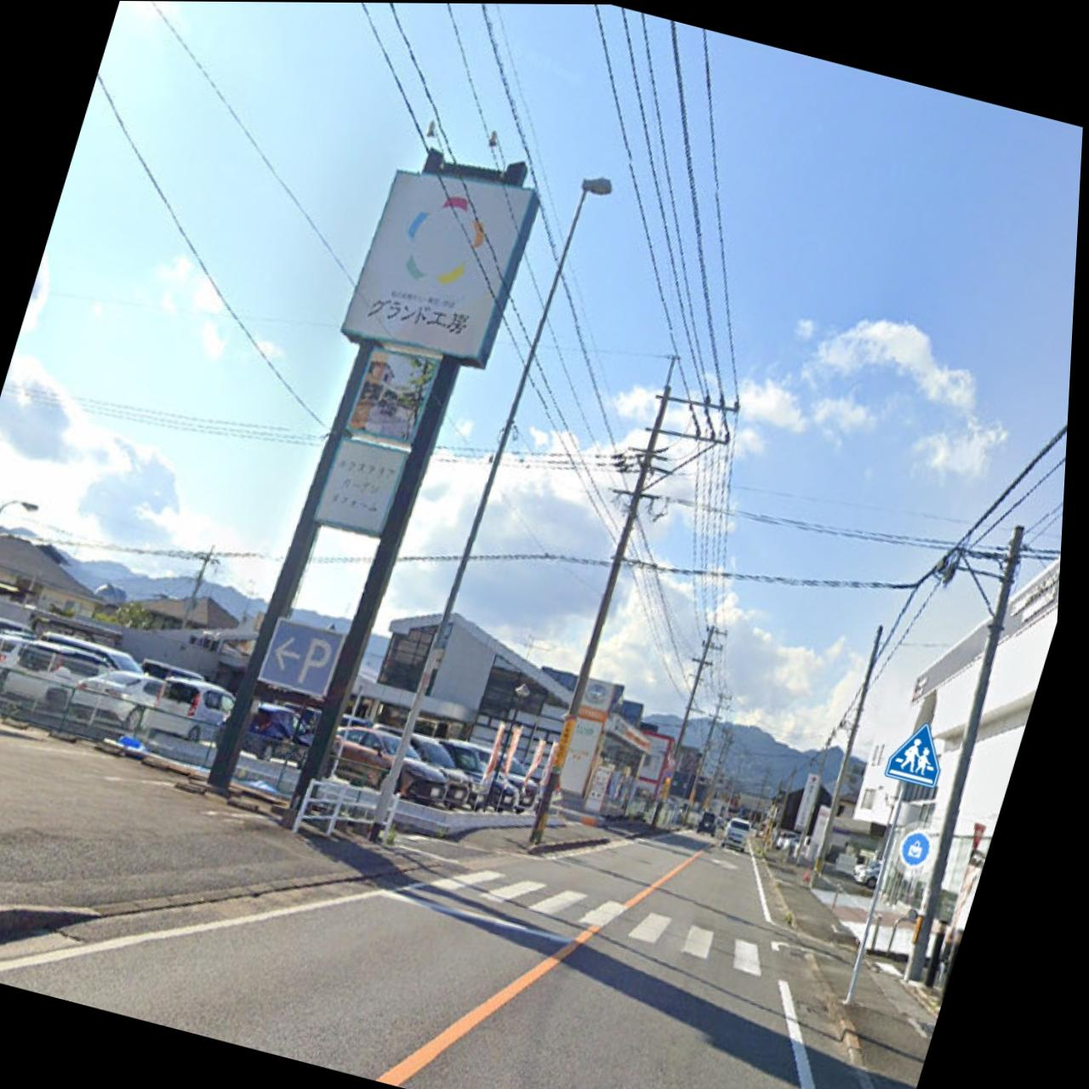cone: (419, 382, 1089, 1089)
